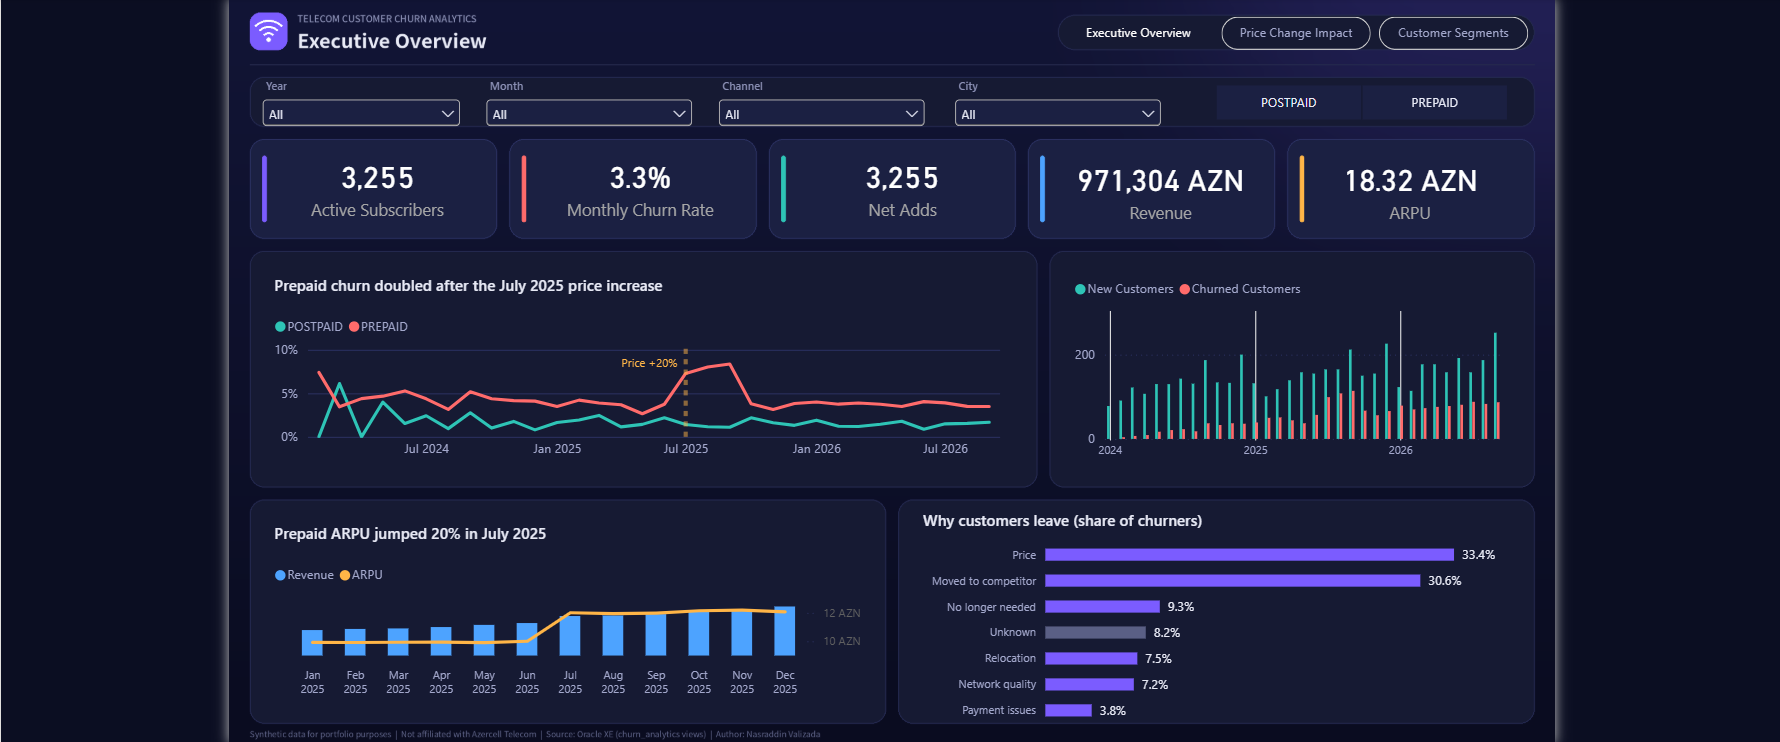

The dashboard page shown, as its layout file describes it:
{"tool":"powerbi","page":{"name":"Executive Overview","canvas":[1280,720],"ordinal":0},"visuals":[{"type":"advanceCardE03760C5AB684758B56AA29F9E6C257B","fields":{"mainMeasure":["_Measures.Active Subscribers"]},"box":[43.9,137.2,200.3,93.3],"z":0},{"type":"advanceCardE03760C5AB684758B56AA29F9E6C257B","fields":{"mainMeasure":["_Measures.Monthly Churn Rate"]},"box":[296.4,137.2,200.3,93.3],"z":1000},{"type":"advanceCardE03760C5AB684758B56AA29F9E6C257B","fields":{"mainMeasure":["_Measures.Net Adds"]},"box":[557.1,137.2,185.2,93.3],"z":2000},{"type":"advanceCardE03760C5AB684758B56AA29F9E6C257B","fields":{"mainMeasure":["_Measures.Revenue"]},"box":[801.4,144.1,196.2,86.4],"z":3000},{"type":"advanceCardE03760C5AB684758B56AA29F9E6C257B","fields":{"mainMeasure":["_Measures.ARPU"]},"box":[1053.9,144.1,171.5,86.4],"z":4000},{"type":"slicer","fields":{"Values":["DimDate.Year"]},"box":[28,77,200.5,46],"z":5000},{"type":"slicer","fields":{"Values":["DimDate.Month Year"]},"box":[243.7,77.2,208,46],"z":6000},{"type":"lineChart","title":"Prepaid churn doubled after the July 2025 price increase","fields":{"Category":["DimDate.Month Start"],"Series":["DimPlanType.Plan Type"],"Y":["_Measures.Monthly Churn Rate"]},"box":[28,252,744,212],"z":7000},{"type":"clusteredColumnChart","title":"New vs churned subscribers per month","fields":{"Category":["DimDate.Month Start"],"Y":["_Measures.New Customers","_Measures.Churned Customers"]},"box":[800,252,452,212],"z":8000},{"type":"slicer","fields":{"Values":["DimPlanType.Plan Type"]},"box":[932.6,82,319.7,37.4],"z":9000},{"type":"slicer","fields":{"Values":["DimChannel.Channel"]},"box":[468.1,77.2,208,46],"z":10000},{"type":"slicer","fields":{"Values":["DimCity.City"]},"box":[696.1,77.2,208,46],"z":11000},{"type":"lineClusteredColumnComboChart","title":"Prepaid ARPU jumped 20% in July 2025","fields":{"Category":["DimDate.Month Year"],"Y":["_Measures.Revenue"],"Y2":["_Measures.ARPU"]},"box":[28,492,598,200],"z":12000},{"type":"clusteredBarChart","title":"Why customers leave (share of churners)","fields":{"Category":["FactCustomer.CHURN_REASON"],"Y":["_Measures.Share of Churners"]},"box":[654.3,478.9,584.4,240.9],"z":13000},{"type":"pageNavigator","box":[805.5,17.8,448.7,32.9],"z":14000}]}

Visuals, with their boxes on the page's 1280x720 design canvas (x1, y1, x2, y2). These are canvas units, not pixel positions in the 1780x742 screenshot, which may show the page scaled, cropped or inside an application window:
advanceCardE03760C5AB684758B56AA29F9E6C257B - _Measures.Active Subscribers: detection(44, 137, 244, 230)
advanceCardE03760C5AB684758B56AA29F9E6C257B - _Measures.Monthly Churn Rate: detection(296, 137, 497, 230)
advanceCardE03760C5AB684758B56AA29F9E6C257B - _Measures.Net Adds: detection(557, 137, 742, 230)
advanceCardE03760C5AB684758B56AA29F9E6C257B - _Measures.Revenue: detection(801, 144, 998, 230)
advanceCardE03760C5AB684758B56AA29F9E6C257B - _Measures.ARPU: detection(1054, 144, 1225, 230)
slicer - DimDate.Year: detection(28, 77, 228, 123)
slicer - DimDate.Month Year: detection(244, 77, 452, 123)
"Prepaid churn doubled after the July 2025 price increase" lineChart: detection(28, 252, 772, 464)
"New vs churned subscribers per month" clusteredColumnChart: detection(800, 252, 1252, 464)
slicer - DimPlanType.Plan Type: detection(933, 82, 1252, 119)
slicer - DimChannel.Channel: detection(468, 77, 676, 123)
slicer - DimCity.City: detection(696, 77, 904, 123)
"Prepaid ARPU jumped 20% in July 2025" lineClusteredColumnComboChart: detection(28, 492, 626, 692)
"Why customers leave (share of churners)" clusteredBarChart: detection(654, 479, 1239, 720)
pageNavigator: detection(806, 18, 1254, 51)
